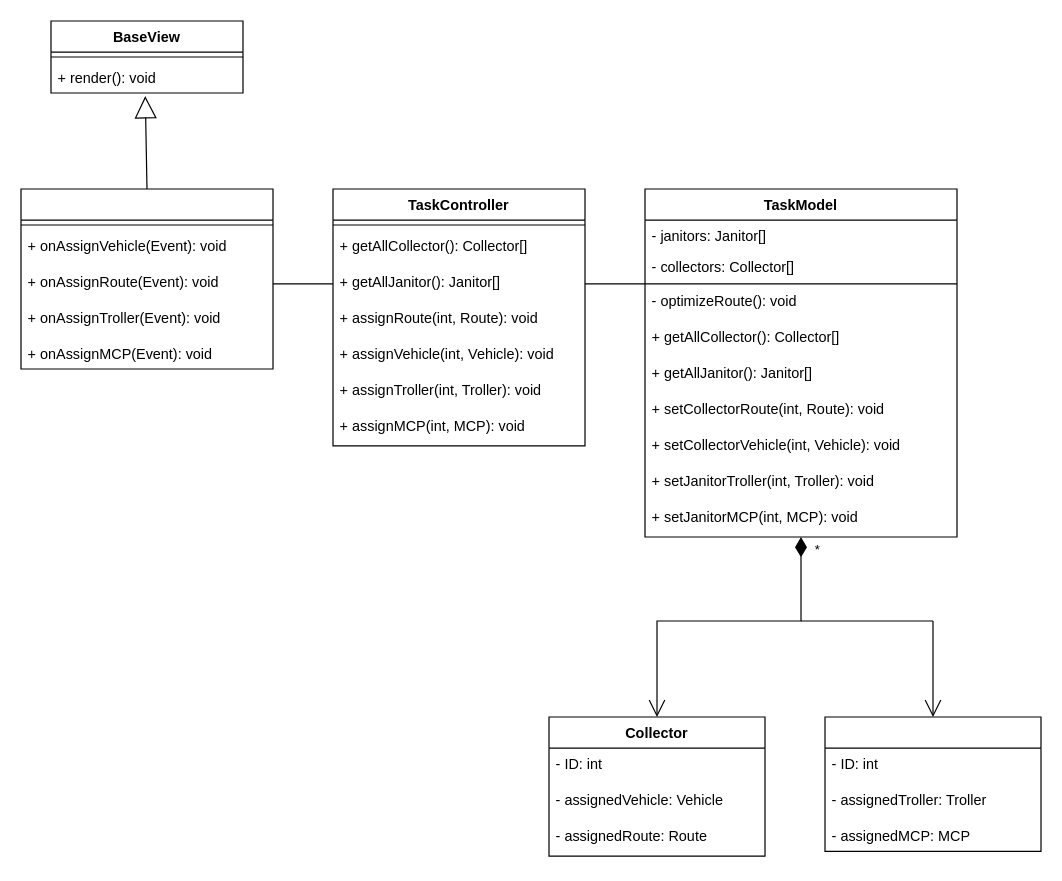
This 1062x881 diagram has some shape labels left out. Each missing label, with the box of its shape:
Janitor: (824, 716, 1041, 851)
TaskView: (20, 188, 273, 369)
